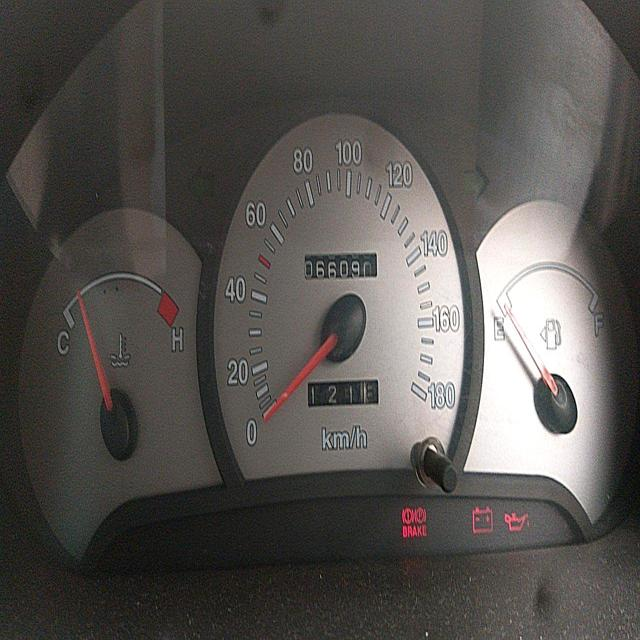odometer: (303, 252, 377, 282)
